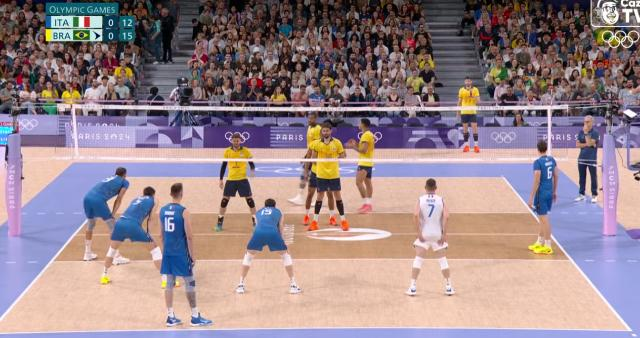Levantador: (533, 140, 555, 254), (223, 135, 250, 217)
Libero: (413, 178, 449, 288)
bola: (466, 89, 476, 99)
